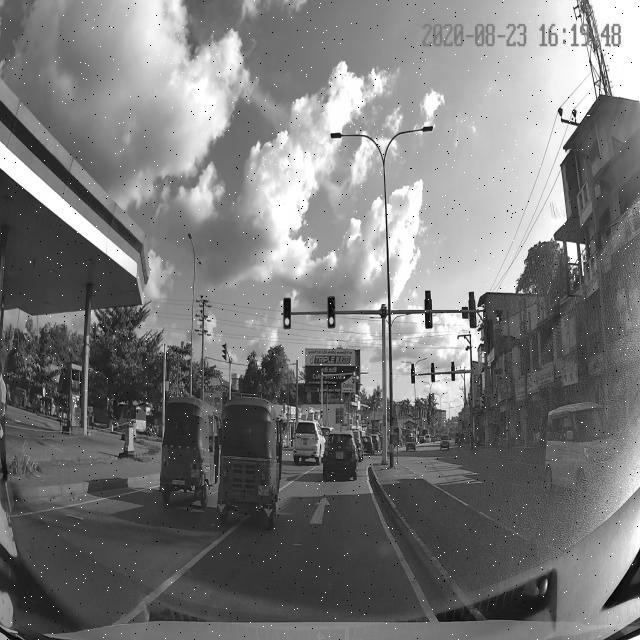forward: (278, 481, 398, 538)
